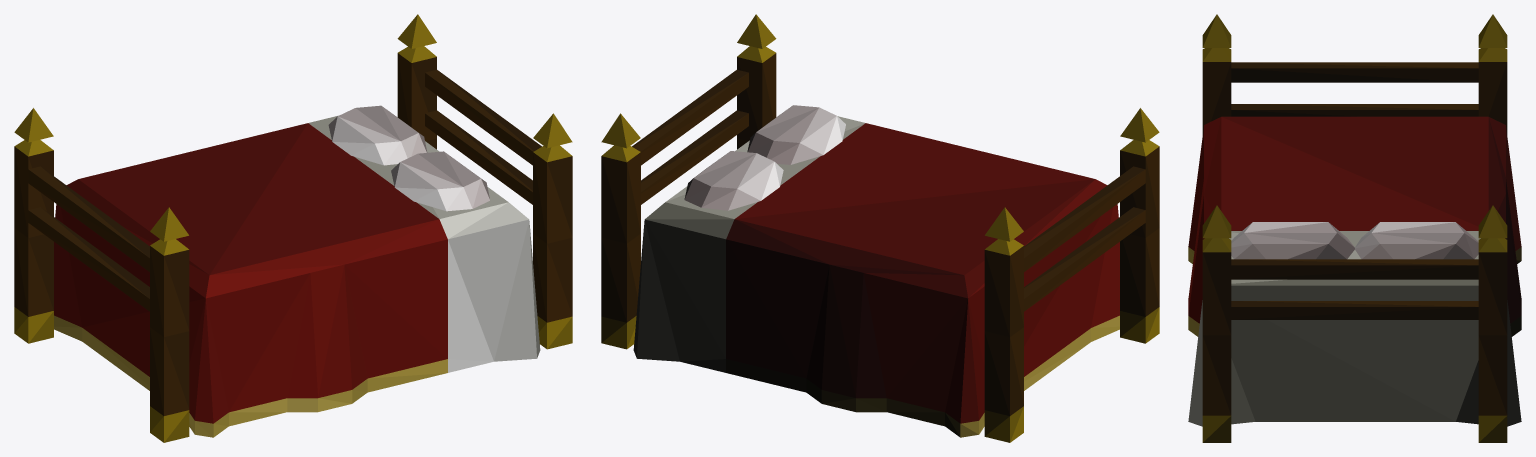
The model's file is double_bed.obj.
3 renders of one model, left to right at view 1: azimuth 30°, elevation 25°; view 2: azimuth 150°, elevation 25°; view 3: azimuth 270°, elevation 25°, orthographic.
Parts seen in each view (by area): view 1: Object Bed 2026-09-21_11-29-28; view 2: Object Bed 2026-09-21_11-29-28; view 3: Object Bed 2026-09-21_11-29-28.
Boxes of the visible parts, x1,y1,x2,y2 form: Object Bed 2026-09-21_11-29-28: (14,14,572,442); Object Bed 2026-09-21_11-29-28: (601,14,1159,442); Object Bed 2026-09-21_11-29-28: (1188,14,1521,442).
Size of the model in its own units: 336 by 179 by 233.
